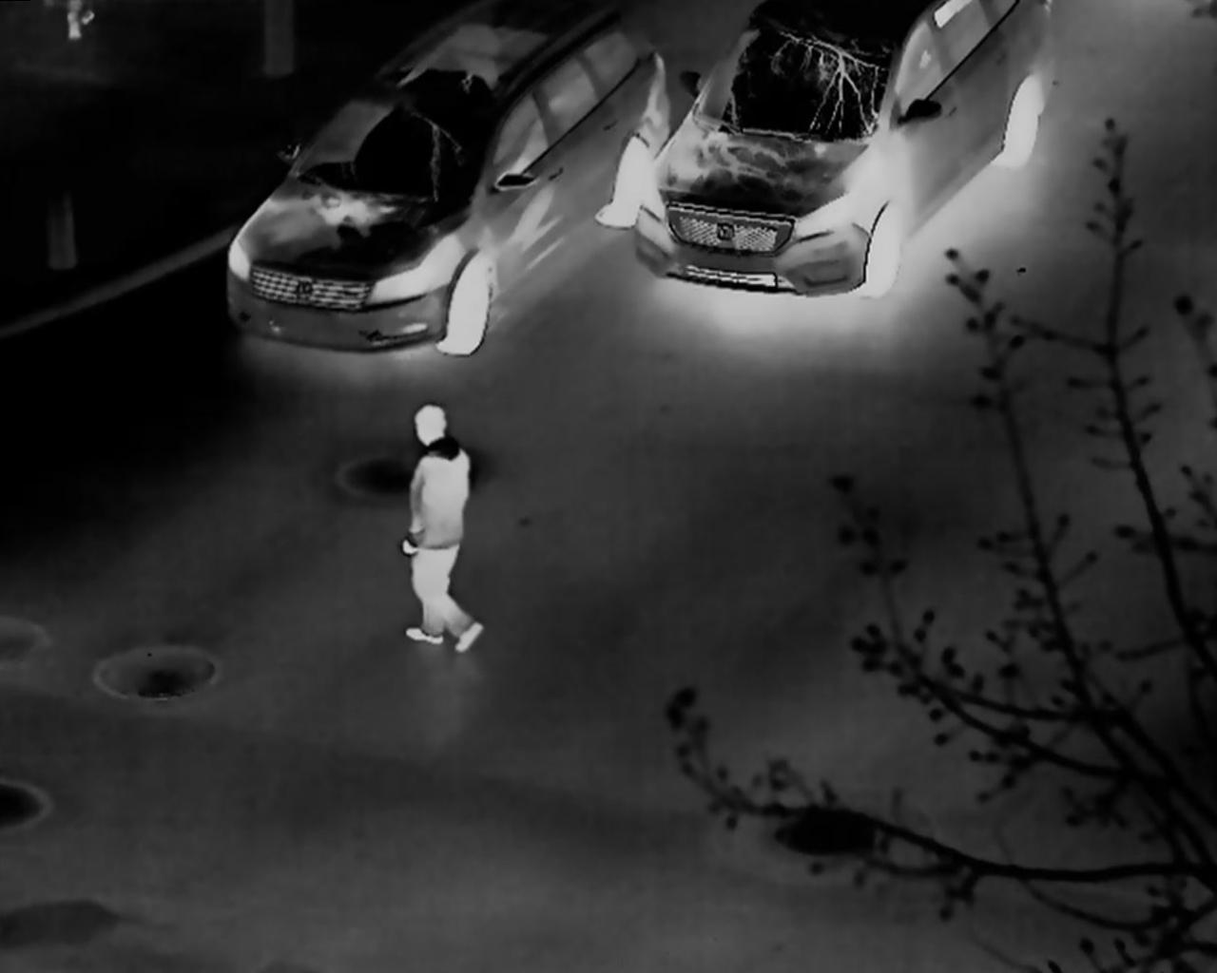person: (400, 403, 484, 653)
